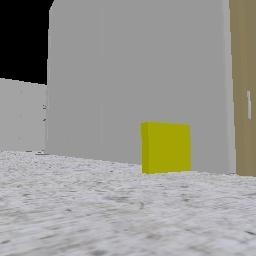galben: (141, 122, 190, 172)
